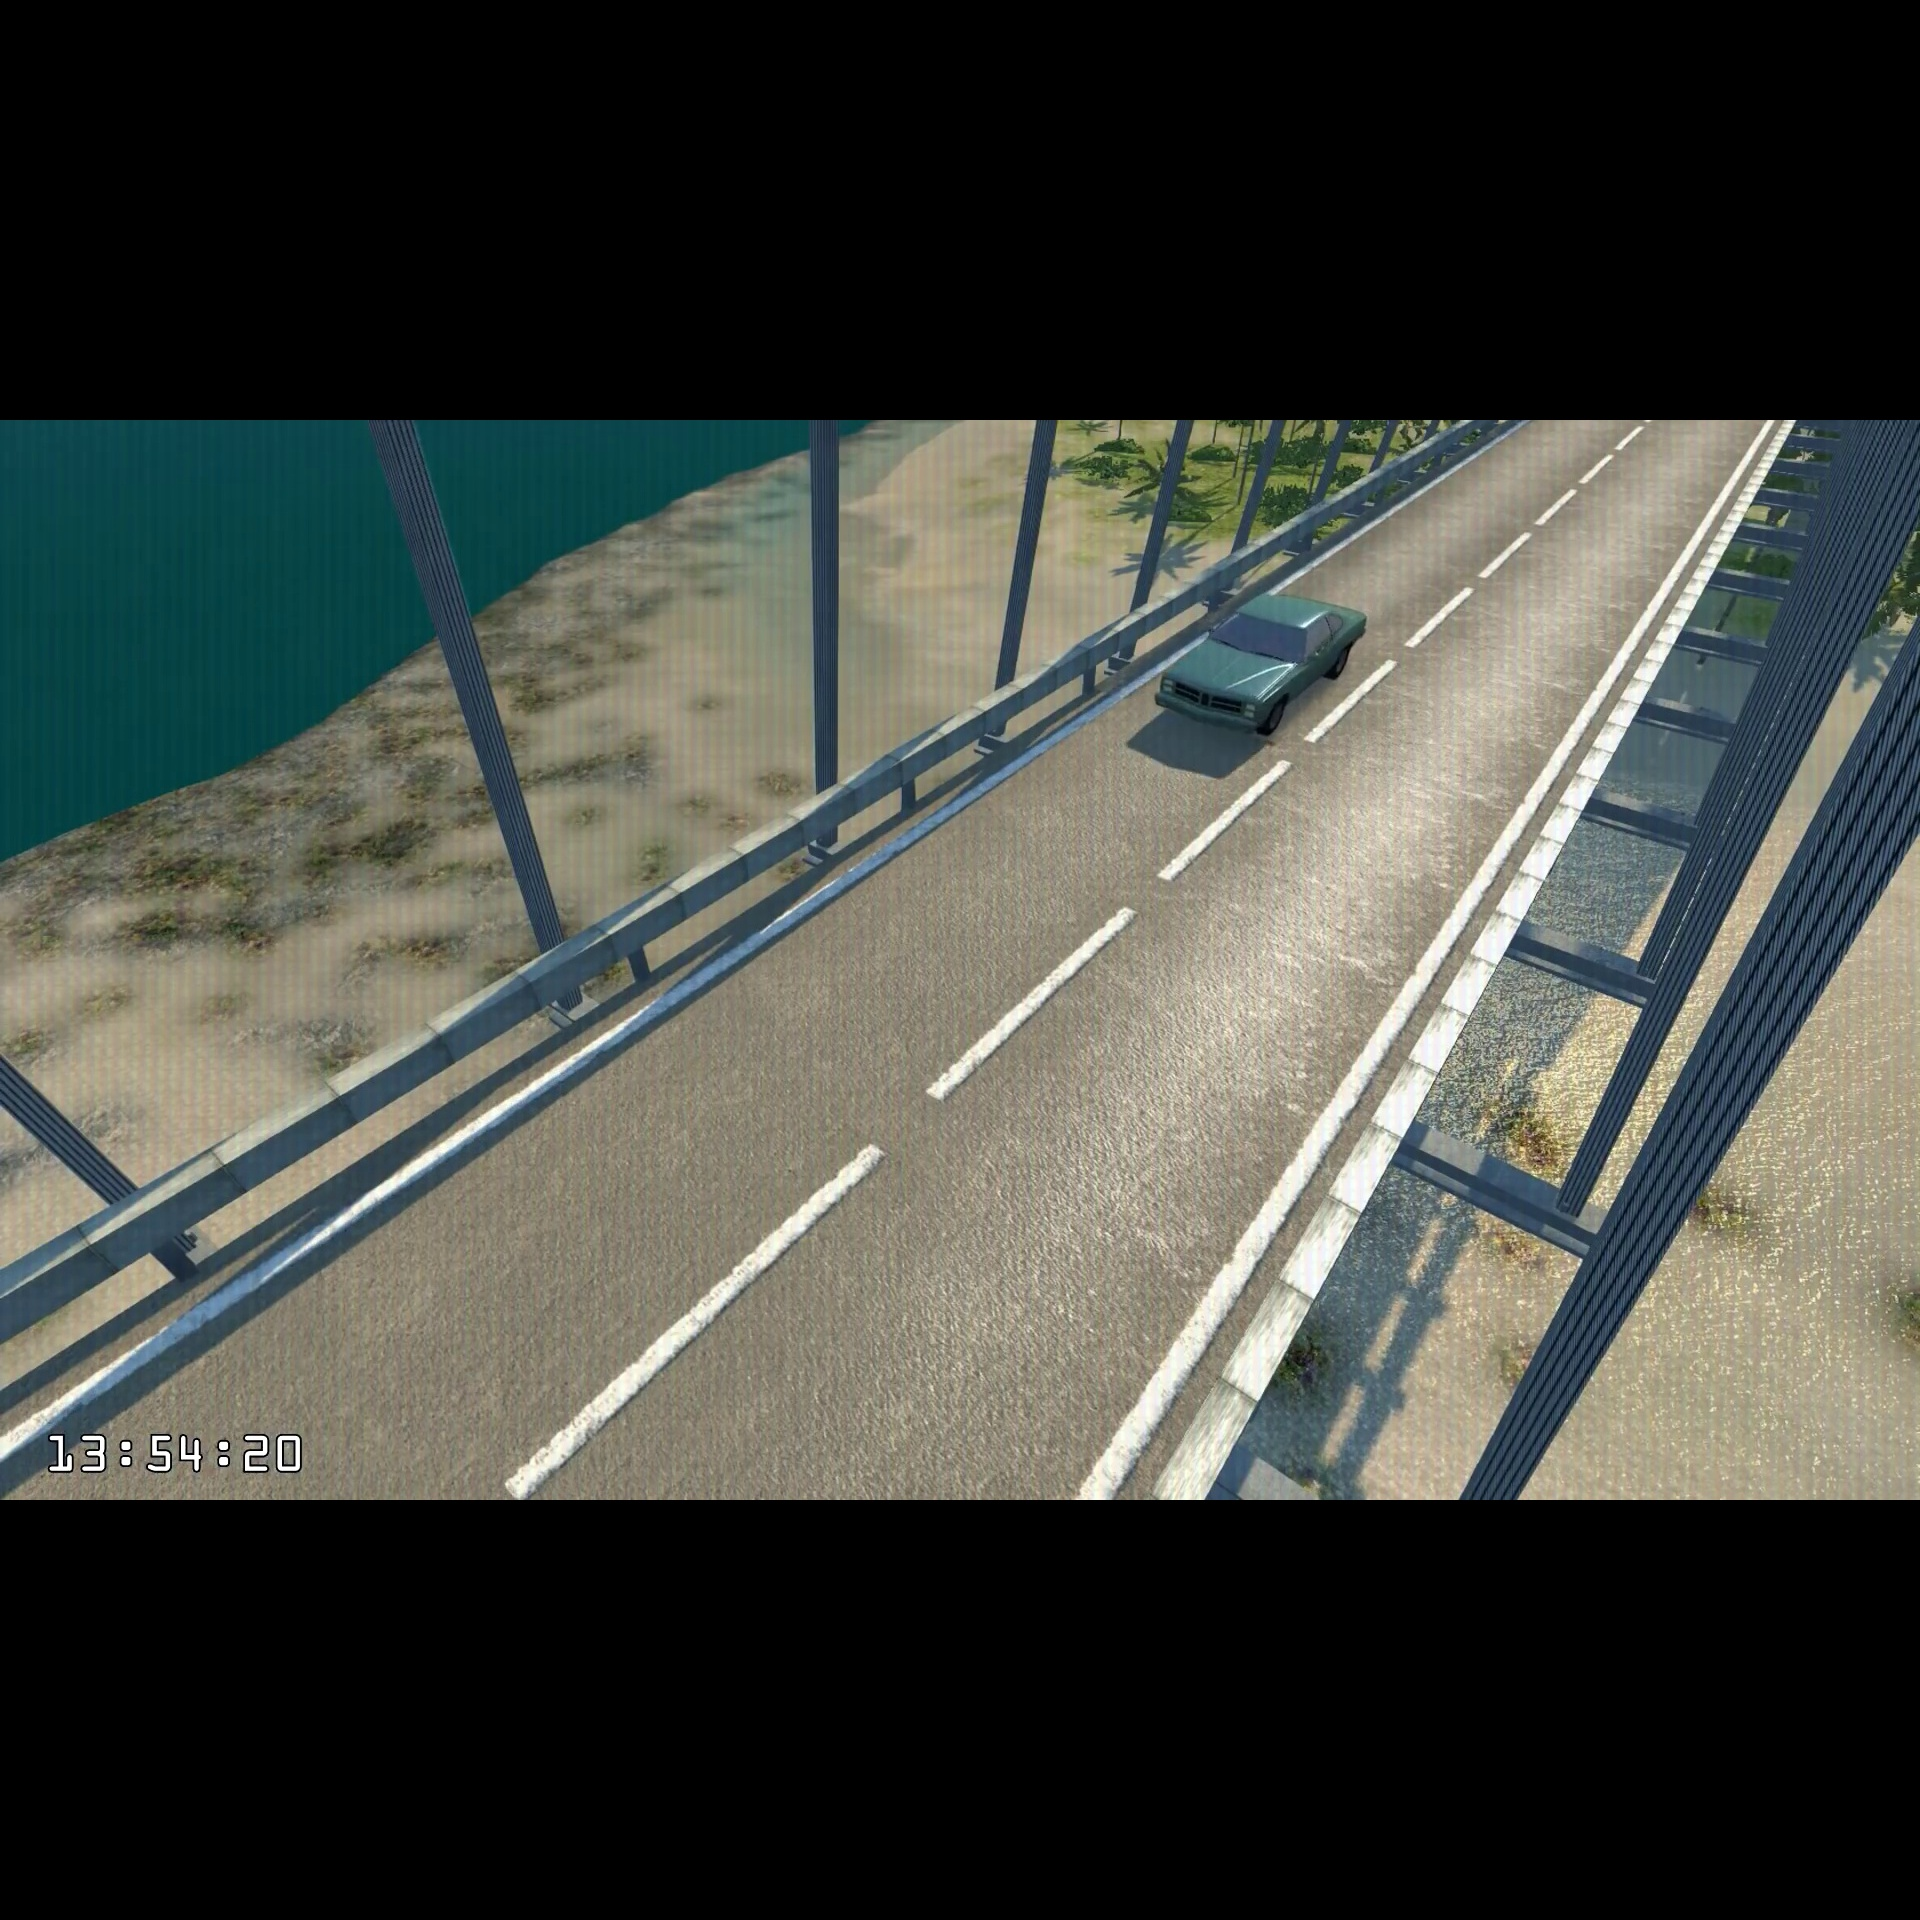vehicle: (1146, 585, 1375, 754)
